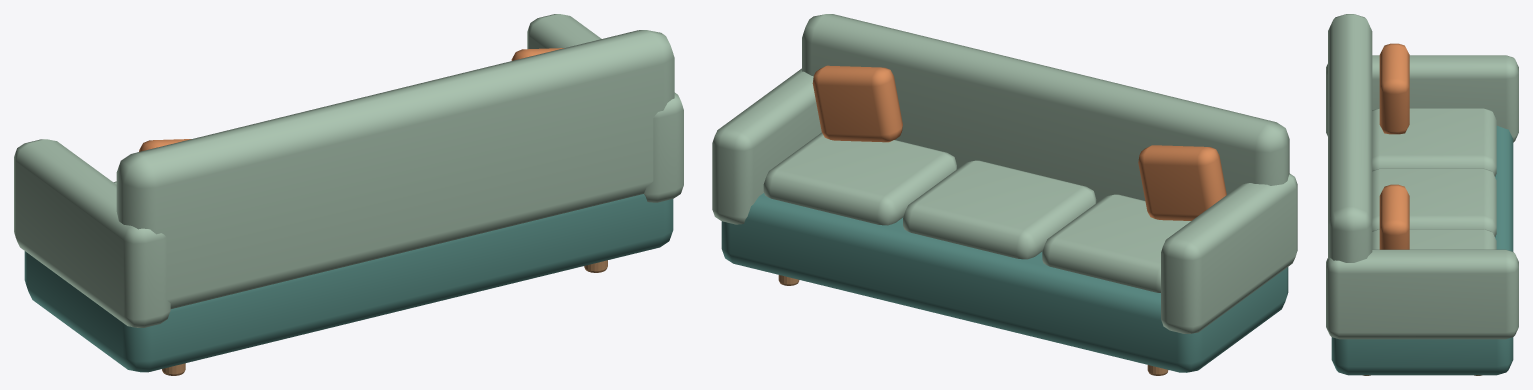
The model's file is sofa.glb.
3 views of the same model, side by side, from view 1: azimuth 30°, elevation 25°; view 2: azimuth 150°, elevation 25°; view 3: azimuth 270°, elevation 25° (orthographic). The views are drawn at different scales.
Parts seen in each view (by area): view 1: V2_sofa_batched; view 2: V2_sofa_batched; view 3: V2_sofa_batched.
Boxes of the visible parts, box(x1,y1,x2,y2) form: V2_sofa_batched: box(14, 14, 683, 375); V2_sofa_batched: box(712, 14, 1297, 375); V2_sofa_batched: box(1326, 14, 1518, 375).
Size of the model in its own units: 2.7 by 1.09 by 1.04.
